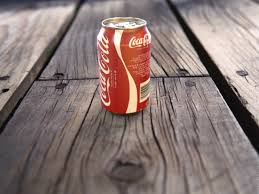coke: (97, 32, 121, 111)
